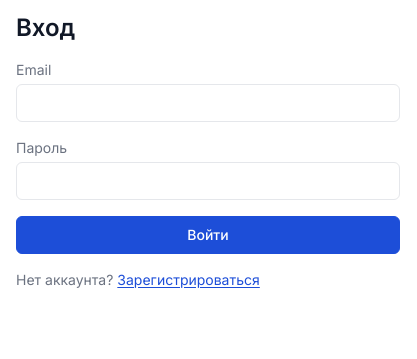
Test: AuthForm › показывает detail из 401
The image size is (417, 359).
Type "a@b.c" into the field labelled "Email" at [208, 103], box [16,84,400,122]
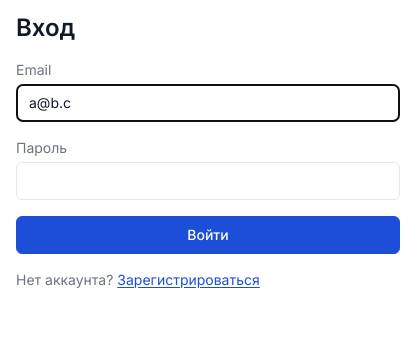
Type "password1" into the password field labelled "Пароль" at [208, 181], box [16,162,400,200]
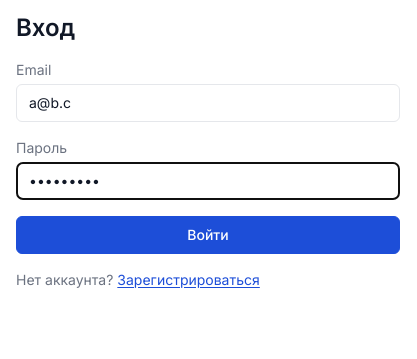
Click the button "Войти" at [208, 235], box [16,216,400,254]
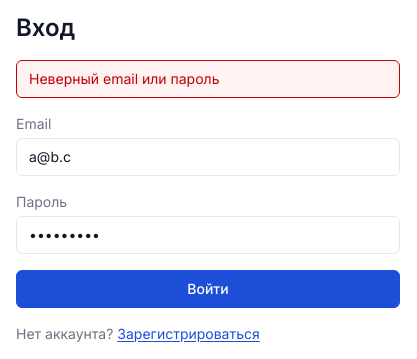
Expected: the message reads "Неверный email или пароль", [29,70,220,87]
